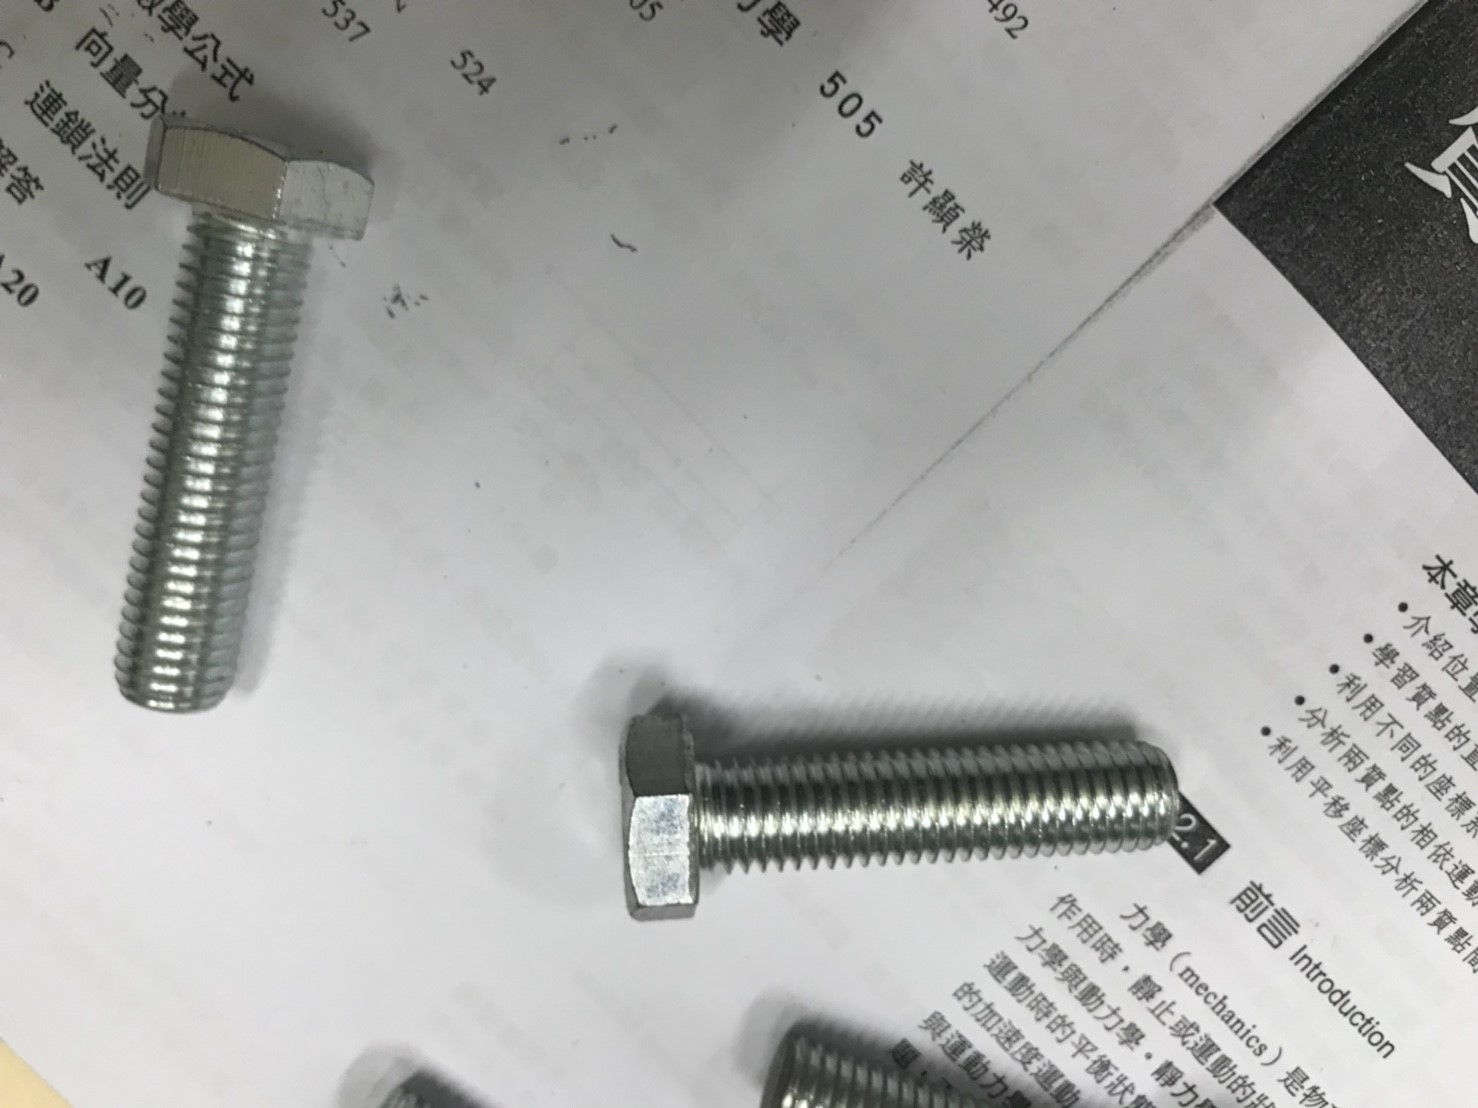screw: (101, 114, 382, 720), (607, 705, 1186, 922)
